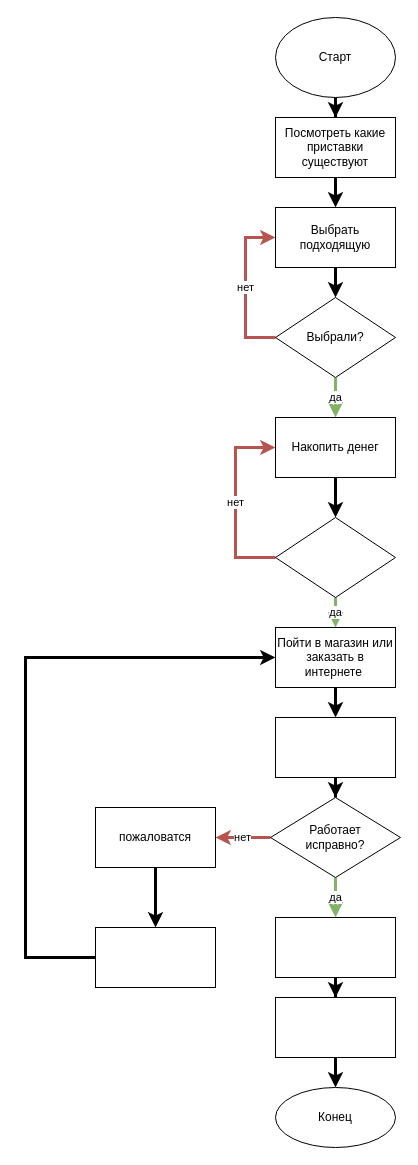
This 418x1165 diagram has some shape labels left out. The centre of each missing label's shape, as x and y in pixels:
"вернуть товар" goes at pixel 155 957.
"Накопили?" goes at pixel 335 557.
"Оплатить, забрать" goes at pixel 335 947.
"При получении проверить её на работоспособность" goes at pixel 335 747.
"принести домой, подключить и играть" goes at pixel 335 1027.
